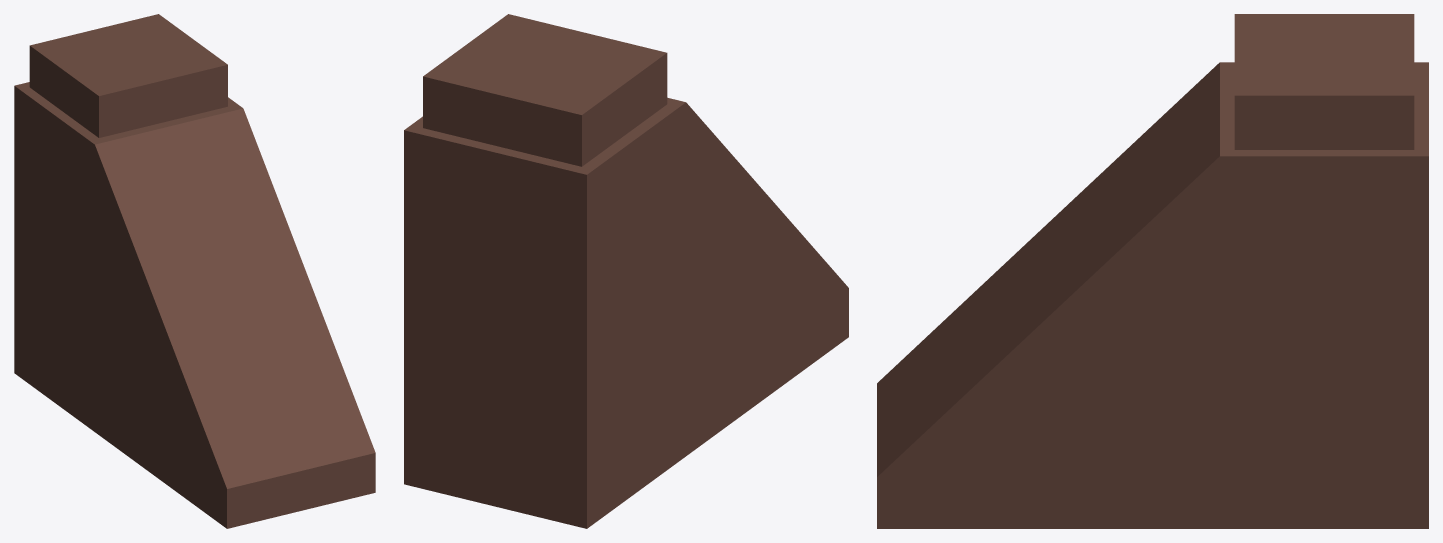
File: Lego_Part_23.fbx
3 views of the same model, side by side, from view 1: azimuth 30°, elevation 25°; view 2: azimuth 150°, elevation 25°; view 3: azimuth 270°, elevation 25° (orthographic). The views are drawn at different scales.
Parts seen in each view (by area): view 1: Lego_Part_23; view 2: Lego_Part_23; view 3: Lego_Part_23.
Boxes of the visible parts, left/top/right/bottom form: Lego_Part_23: left=14, top=14, right=375, bottom=528; Lego_Part_23: left=404, top=14, right=848, bottom=528; Lego_Part_23: left=877, top=14, right=1428, bottom=528.
Bounding box in the file's own units: 1.55 × 3.28 × 3.84.
1 material, 1 textured.
